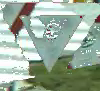Give way: (4, 0, 95, 90)
